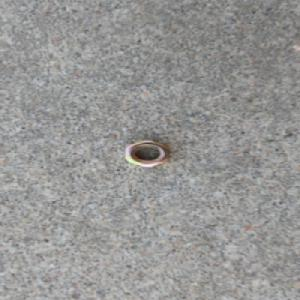Nut: (122, 139, 170, 168)
